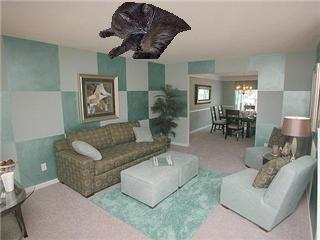tampered: (100, 3, 191, 59)
